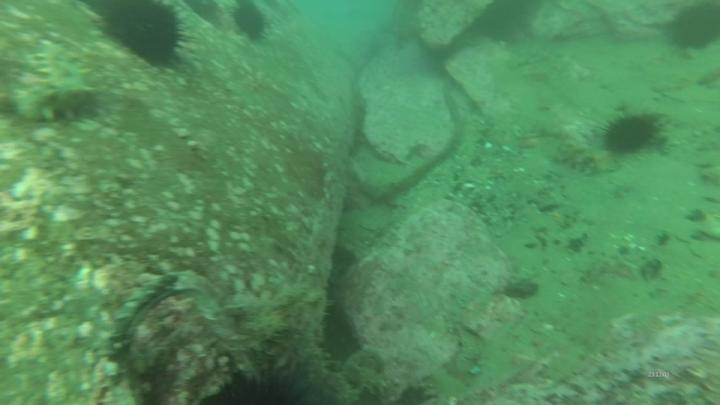echinus: (94, 1, 204, 76), (605, 109, 664, 164), (672, 3, 720, 56), (234, 3, 266, 42)
